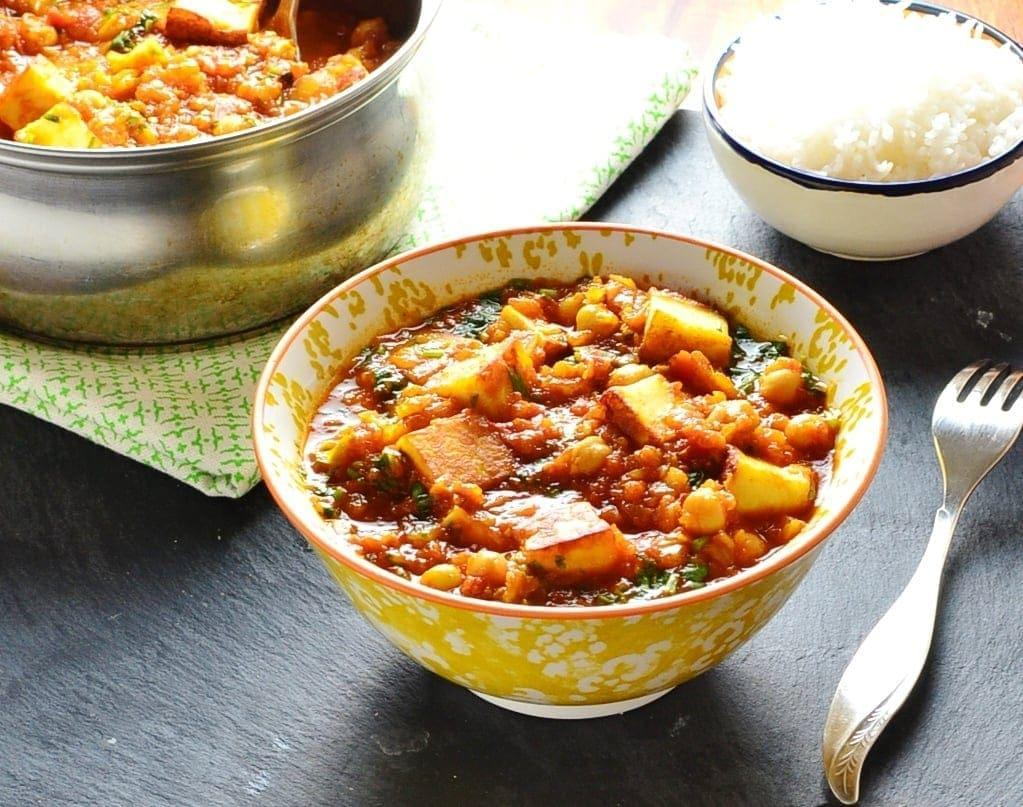paneer: (411, 336, 718, 517), (13, 36, 283, 97)
rice: (781, 33, 986, 164)
